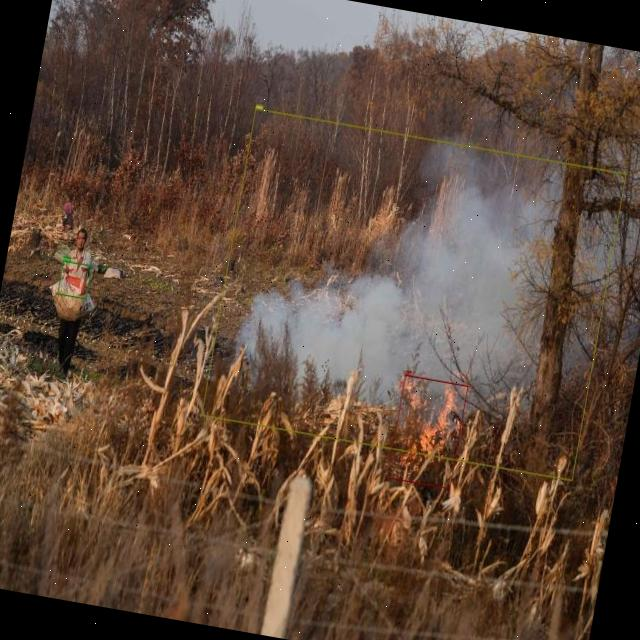fire: (387, 374, 468, 490)
smoke: (201, 108, 626, 480)
